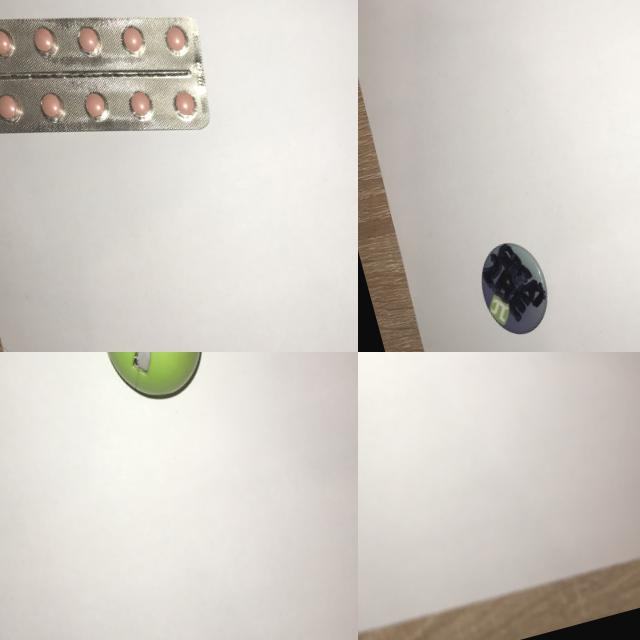icon: (464, 223, 563, 350)
tablets: (0, 0, 230, 195)
toy: (85, 352, 220, 413)
